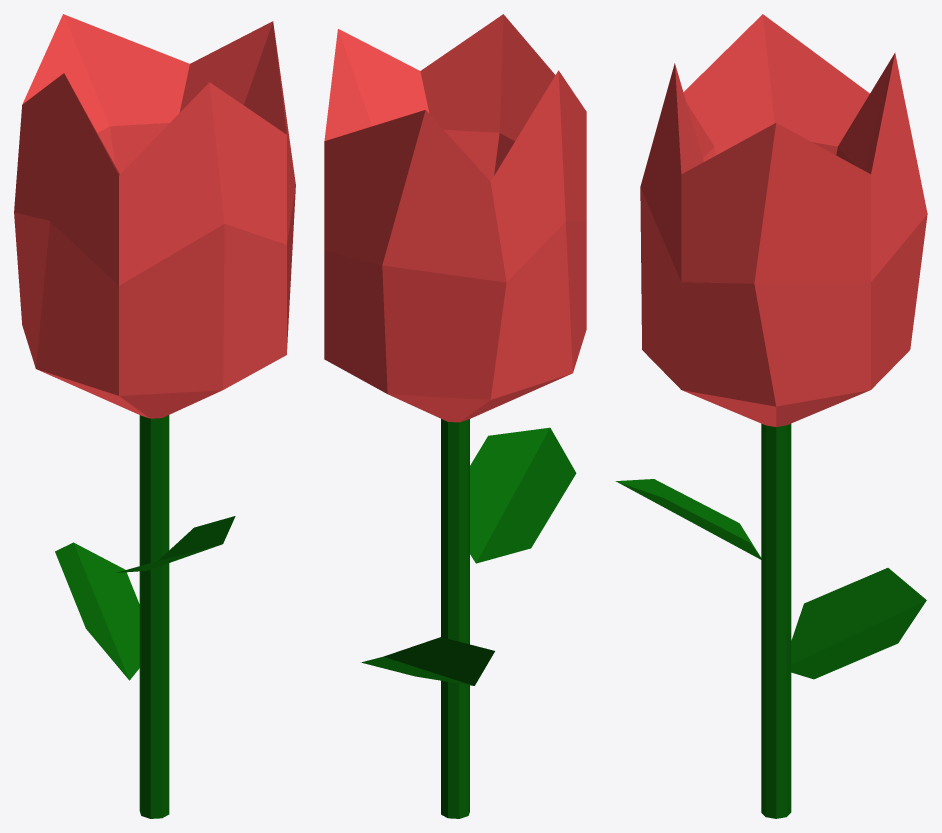
File: Tulip 1.fbx
3 views of the same model, side by side, from view 1: azimuth 30°, elevation 25°; view 2: azimuth 150°, elevation 25°; view 3: azimuth 270°, elevation 25° (orthographic). The views are drawn at different scales.
Parts seen in each view (by area): view 1: Plane.002; view 2: Plane.002; view 3: Plane.002.
Boxes of the visible parts, left/top/right/bottom form: Plane.002: left=14, top=14, right=295, bottom=818; Plane.002: left=324, top=14, right=586, bottom=818; Plane.002: left=615, top=14, right=927, bottom=818.
Size of the model in its own units: 15.7 by 46.31 by 17.42.
1 material, 1 textured.
